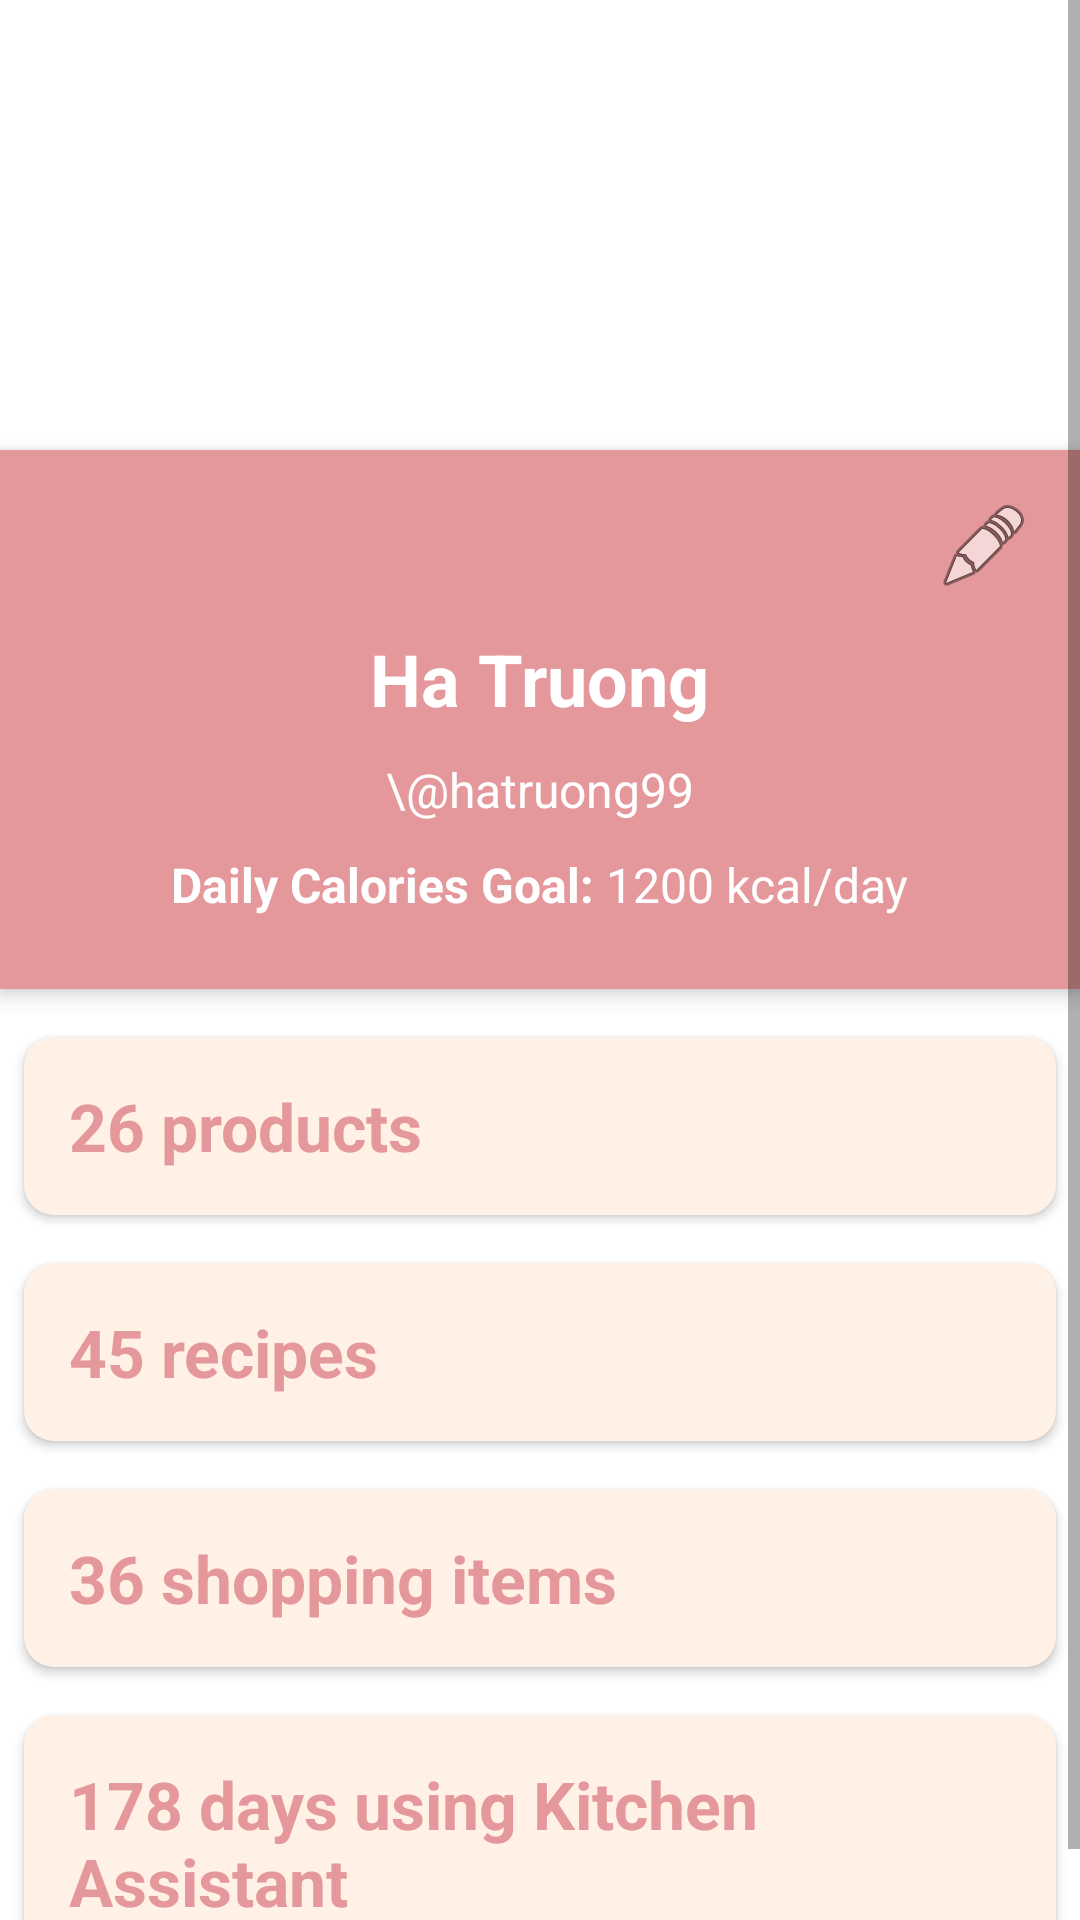

Where icons sit on this 1080 × 1920 app screen, as (x1, y1, x2, y2):
edit: (943, 505, 1024, 586)
